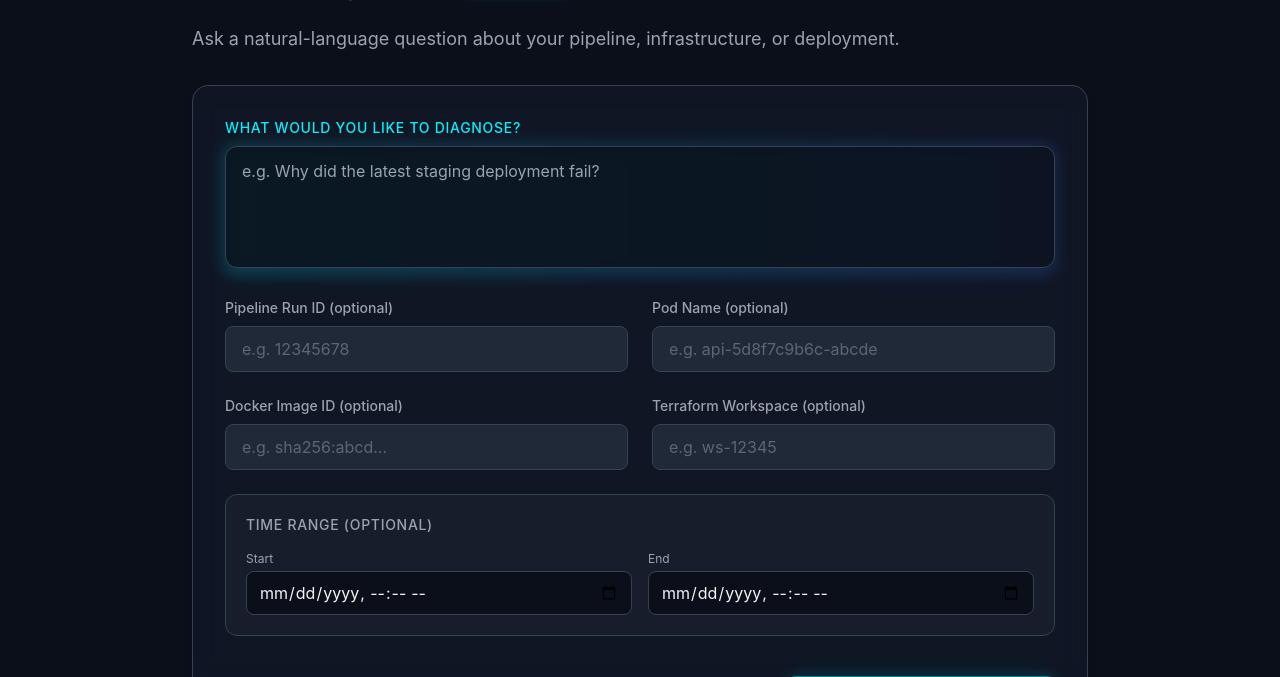
AssistantScreen › shows error message on API failure
Type "Why did it fail?" into the text box with placeholder "e.g. Why did the latest staging deployment fail?" at [640, 207], box [225,146,1055,268]
(page scrolled)
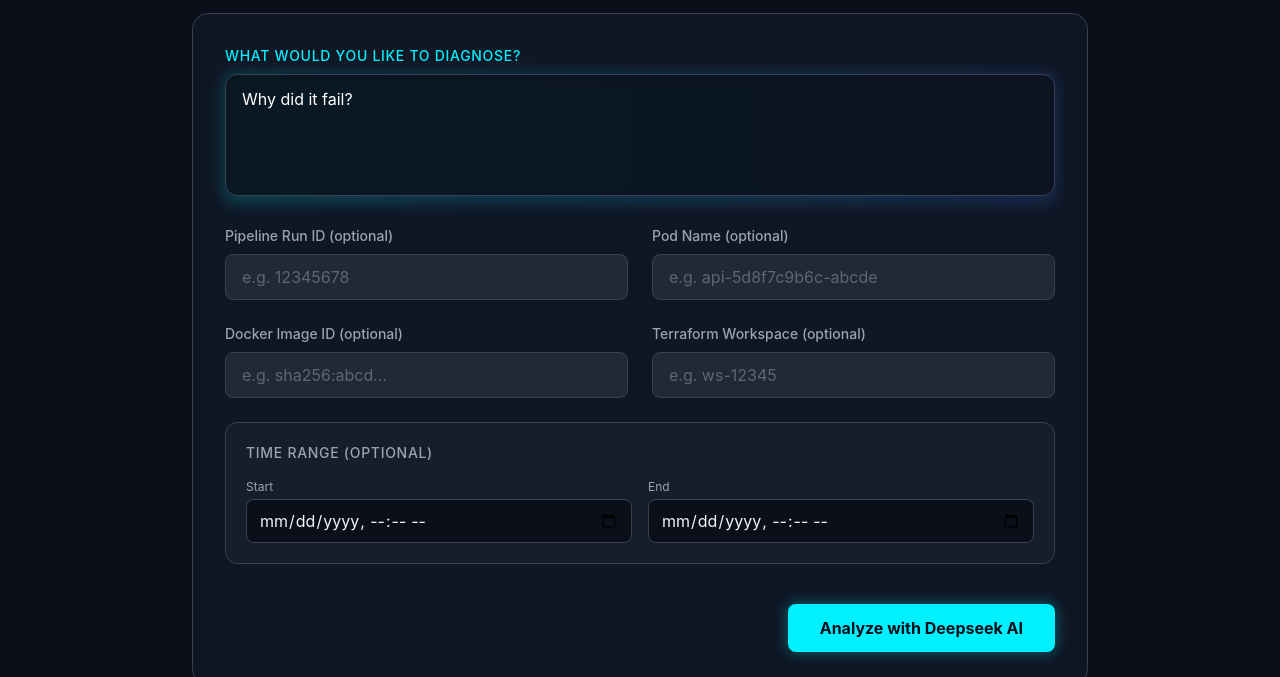
Click the button "Analyze with Deepseek AI" at [921, 628], box [788,604,1055,652]
(page scrolled)
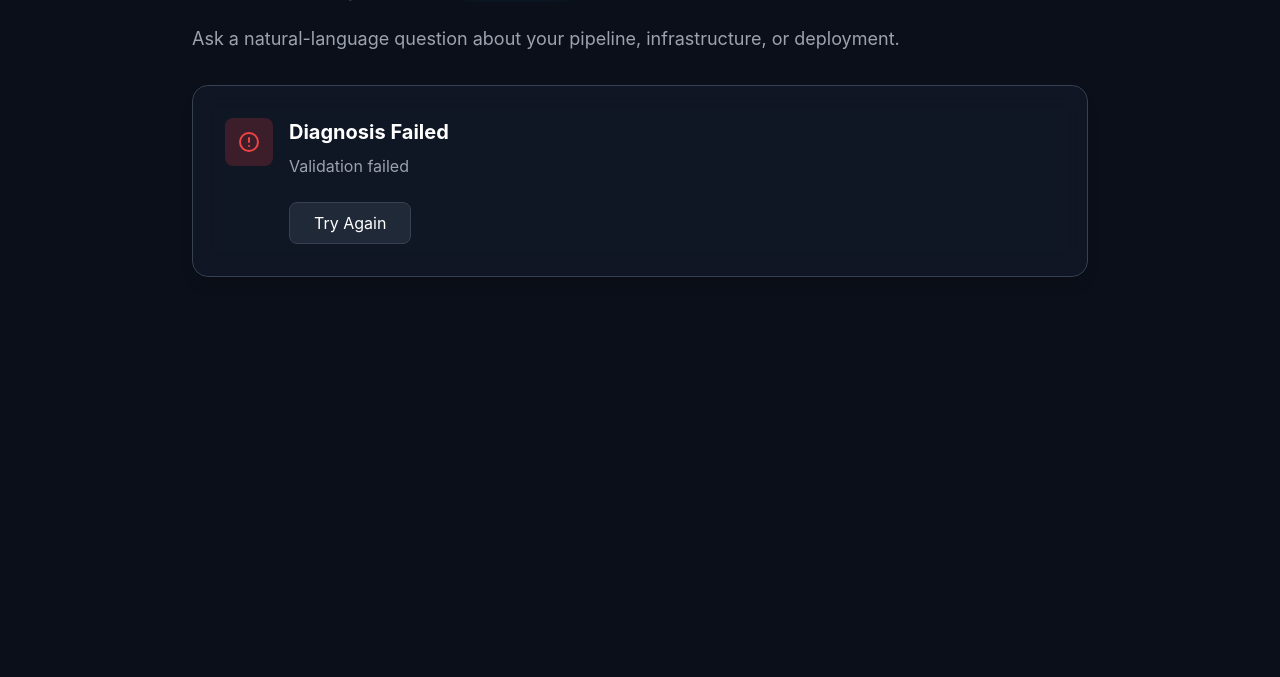
Expected: the heading "Diagnosis Failed" is shown, [289,118,449,146]
Expected: the text "Validation failed" is shown, [289,156,409,176]
Expected: the button "Try Again" is shown, [289,202,411,244]
